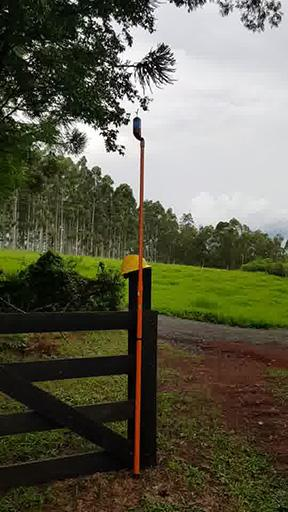Detector_Tensao_Contato: (131, 110, 143, 142)
Vara_Manobra: (132, 139, 147, 474)
